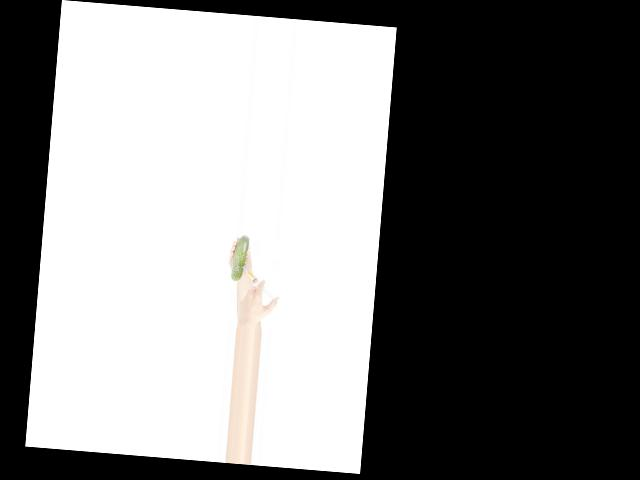cucumber: (230, 233, 249, 281)
